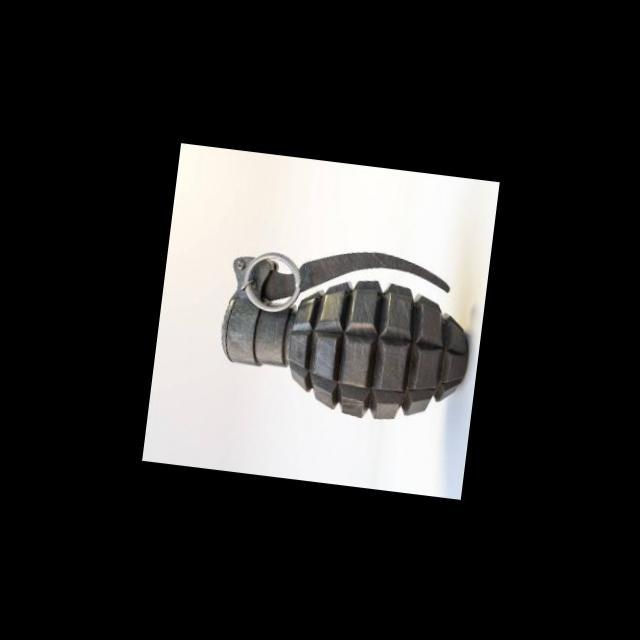grenade: (203, 226, 482, 434)
